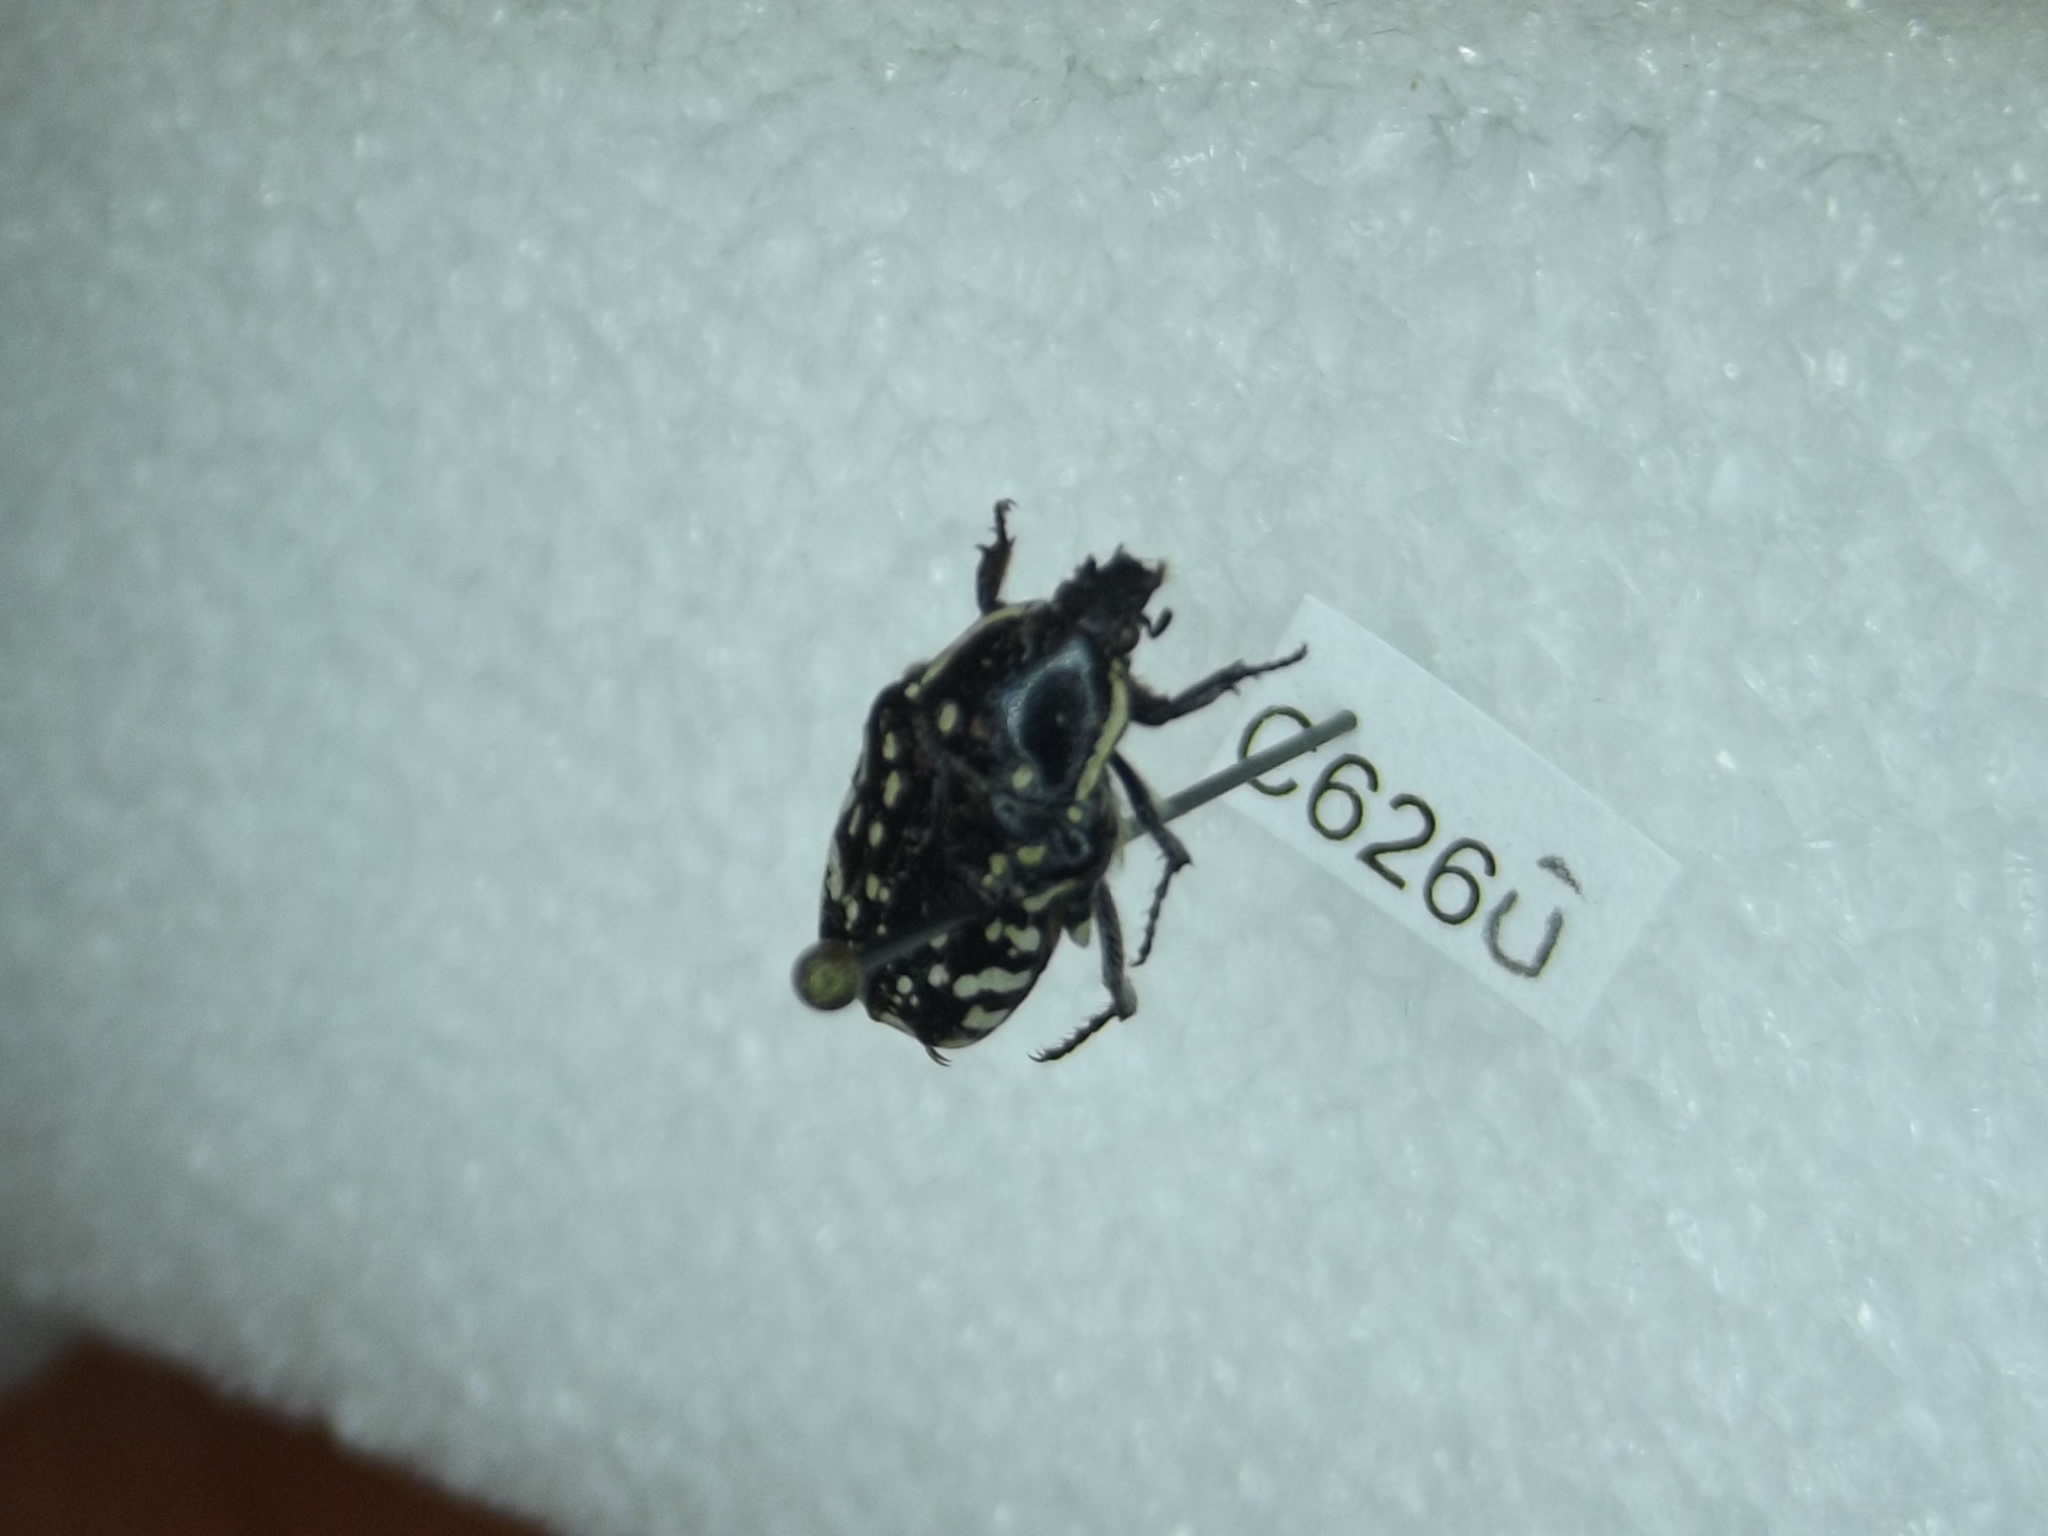Oxythyrea_funesta: (810, 478, 1317, 1115)
